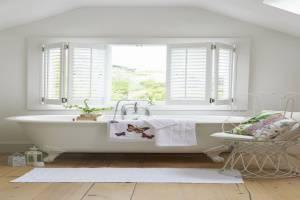window: (36, 35, 240, 106)
